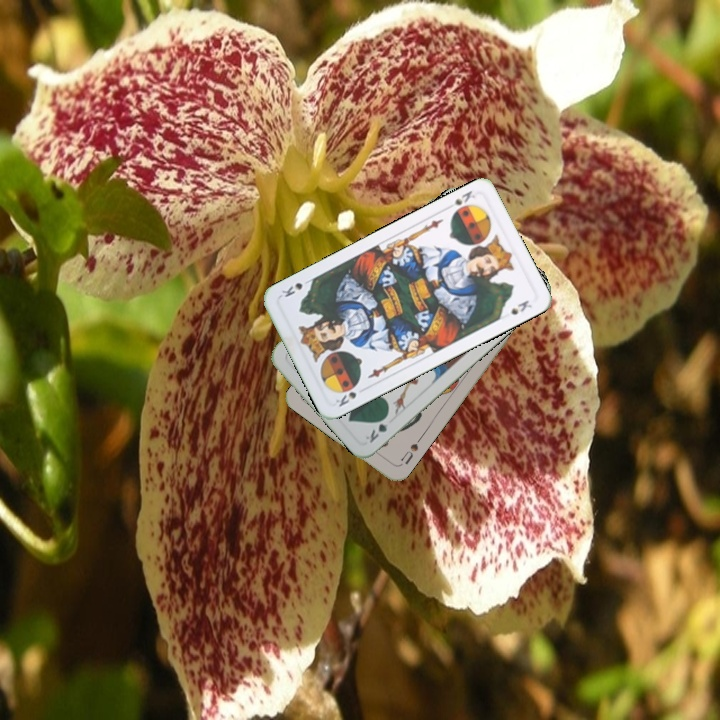GK: (361, 411, 391, 446)
SK: (331, 387, 359, 410), (450, 186, 477, 208)
SU: (395, 439, 421, 469)
